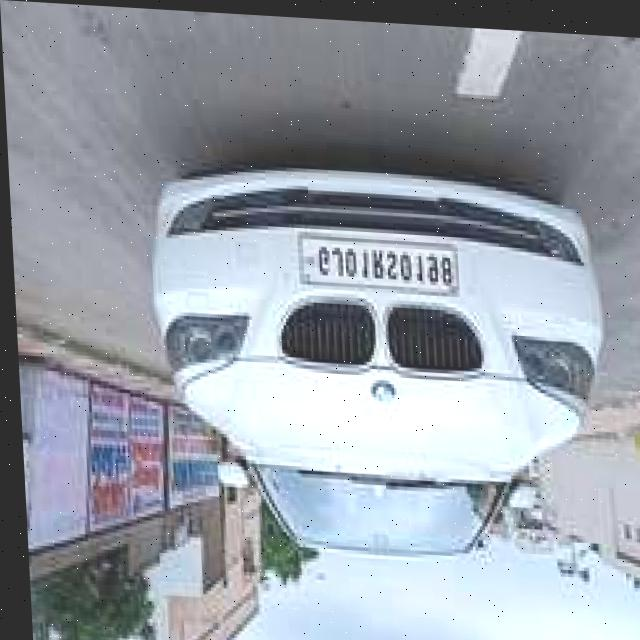plate: (292, 231, 457, 295)
